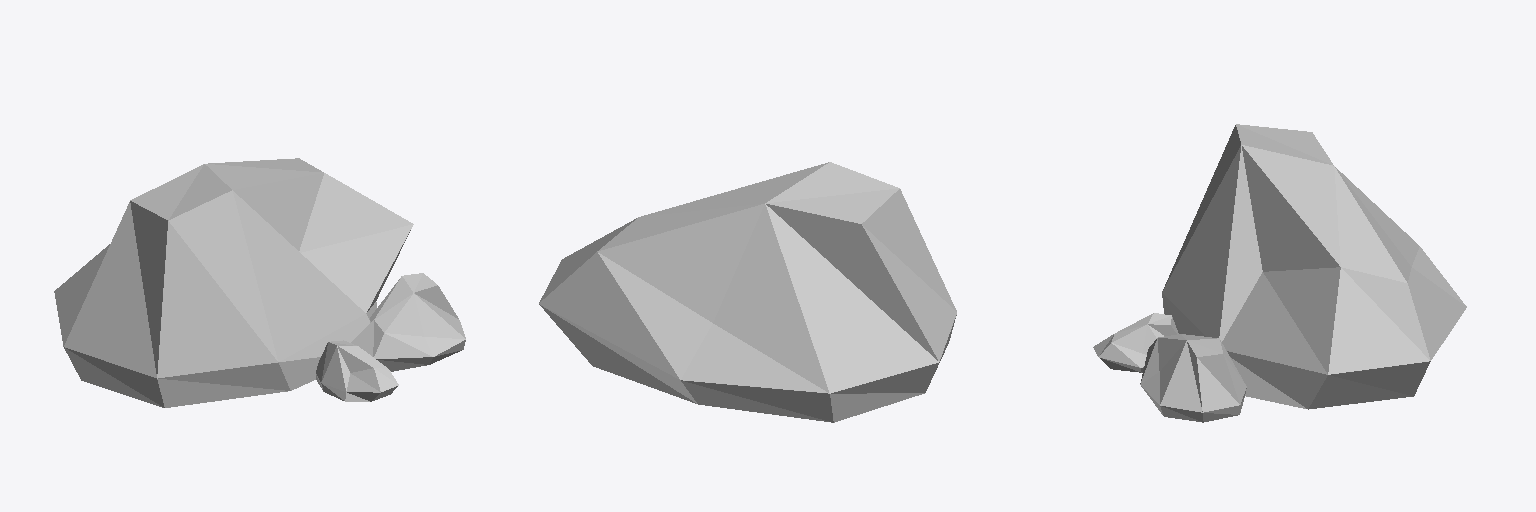
Rendered from rock1.obj.
3 views of the same model, side by side, from view 1: azimuth 30°, elevation 25°; view 2: azimuth 150°, elevation 25°; view 3: azimuth 270°, elevation 25° (orthographic).
Visible parts, largest first — view 1: rock3_Cube.003; view 2: rock3_Cube.003; view 3: rock3_Cube.003.
Boxes of the visible parts, box(x1,y1,x2,y2) form: rock3_Cube.003: box(54, 158, 465, 407); rock3_Cube.003: box(539, 162, 956, 422); rock3_Cube.003: box(1093, 124, 1466, 422).
Size of the model in its own units: 1.88 by 0.895 by 1.68.